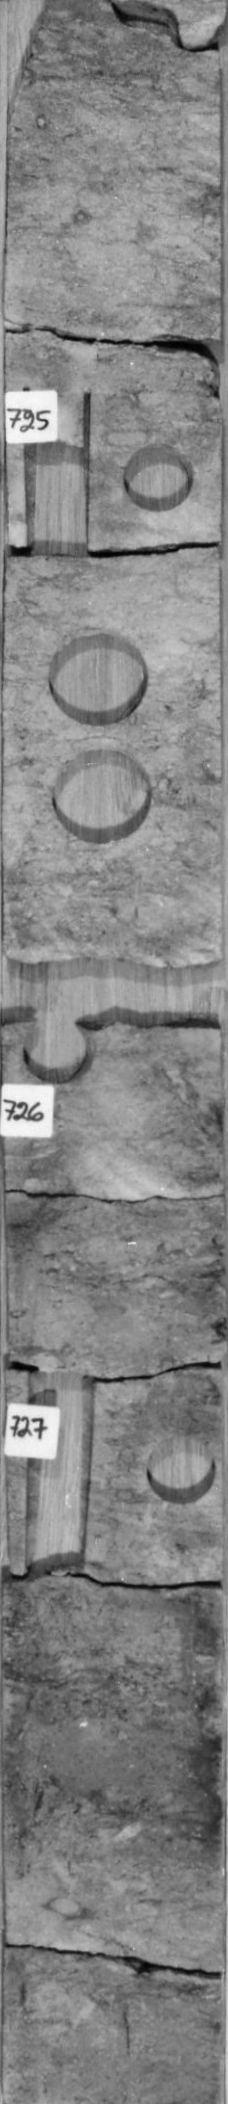hplug: (141, 1424, 223, 1510), (115, 435, 198, 518), (17, 1018, 95, 1087)
scal: (48, 742, 158, 852), (43, 627, 154, 731)
vplug: (17, 1359, 101, 1577), (17, 376, 98, 560)
